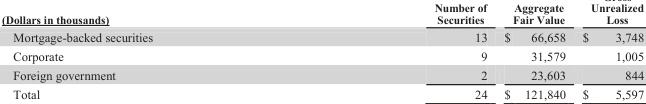table: (0, 1, 643, 101)
table column: (0, 1, 292, 101), (292, 1, 495, 101), (495, 1, 573, 101), (573, 1, 643, 101)
table column header: (0, 1, 643, 27)
table row: (0, 1, 643, 27), (0, 27, 643, 46), (0, 46, 643, 65), (0, 65, 643, 84), (0, 84, 643, 101)
